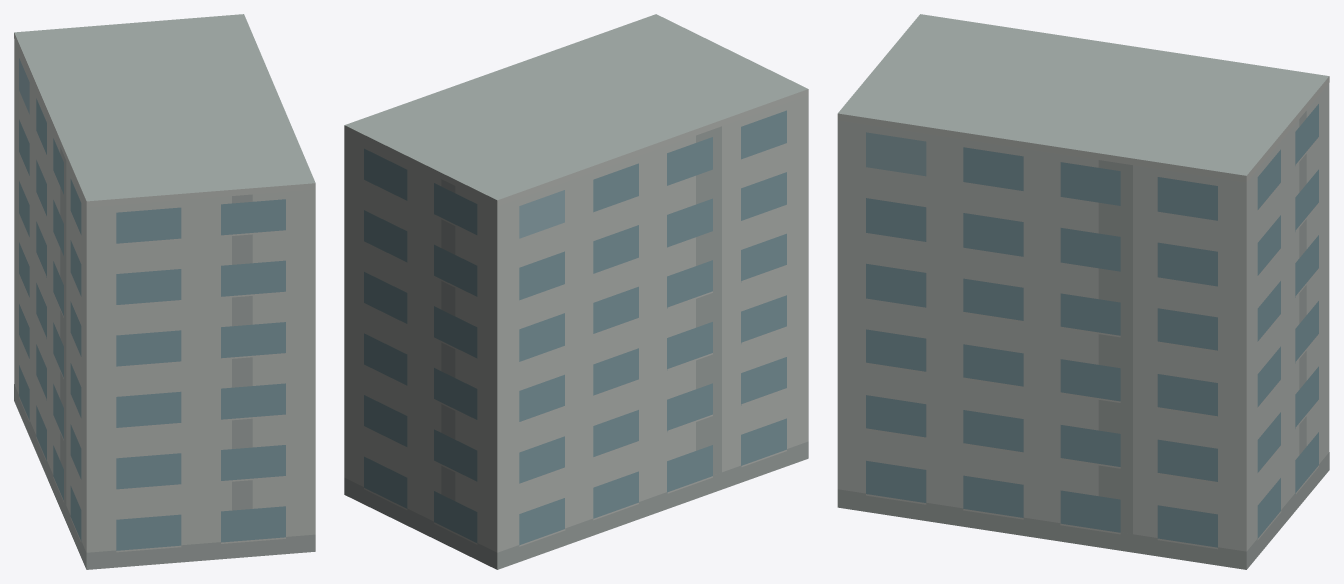
File: survey-upis-32854259.glb
3 renders of one model, left to right at view 1: azimuth 30°, elevation 25°; view 2: azimuth 150°, elevation 25°; view 3: azimuth 270°, elevation 25°, orthographic. The views are drawn at different scales.
Parts seen in each view (by area): view 1: survey-upis-32854259.tmp; view 2: survey-upis-32854259.tmp; view 3: survey-upis-32854259.tmp.
Boxes of the visible parts, x1=… form: survey-upis-32854259.tmp: x1=14, y1=14, x2=315, y2=569; survey-upis-32854259.tmp: x1=344, y1=14, x2=808, y2=569; survey-upis-32854259.tmp: x1=837, y1=14, x2=1329, y2=569.
Bounding box in the file's own units: 12.6 × 14.3 × 16.18.
